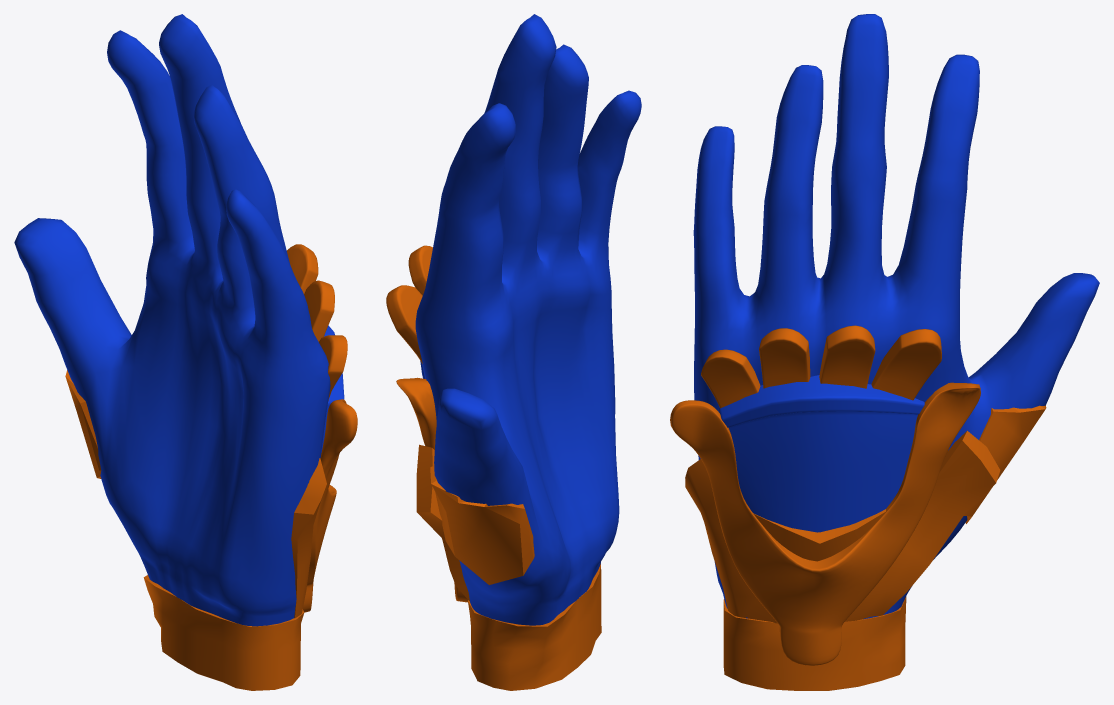
The model's file is HAND_L.FBX.
The picture shows the model from 3 angles, left to right: view 1: azimuth 30°, elevation 25°; view 2: azimuth 150°, elevation 25°; view 3: azimuth 270°, elevation 25°; orthographic projection. The views are drawn at different scales.
Visible parts, largest first — view 1: hand_main, ornement_v; view 2: hand_main, ornement_v; view 3: hand_main, ornement_v.
Part boxes in pixels (bbox=[...]): hand_main: bbox=[14, 14, 344, 626]; ornement_v: bbox=[65, 244, 357, 690]; hand_main: bbox=[415, 14, 641, 625]; ornement_v: bbox=[386, 245, 601, 690]; hand_main: bbox=[693, 14, 1099, 619]; ornement_v: bbox=[670, 325, 1046, 690].
Bounding box in the file's own units: 2.86 × 9.11 × 5.51.
